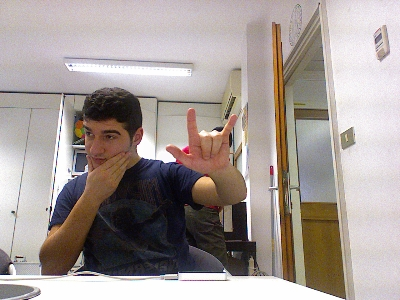我爱你: (163, 105, 238, 175)
